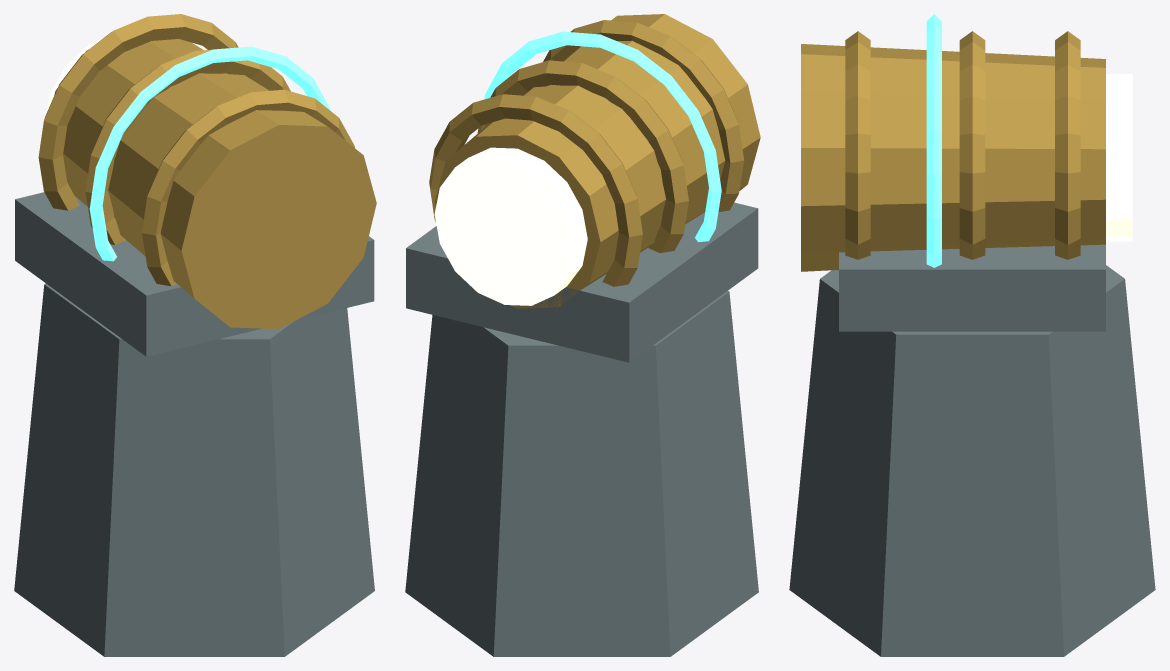
The model's file is beam_emitter.glb.
3 views of the same model, side by side, from view 1: azimuth 30°, elevation 25°; view 2: azimuth 150°, elevation 25°; view 3: azimuth 270°, elevation 25° (orthographic). The views are drawn at different scales.
Visible parts, largest first — view 1: BeamEmitter; view 2: BeamEmitter; view 3: BeamEmitter.
Boxes of the visible parts, x1=… form: BeamEmitter: x1=14, y1=14, x2=376, y2=656; BeamEmitter: x1=405, y1=14, x2=760, y2=656; BeamEmitter: x1=789, y1=14, x2=1155, y2=656.
Size of the model in its own units: 0.8314 by 1.63 by 0.96.
